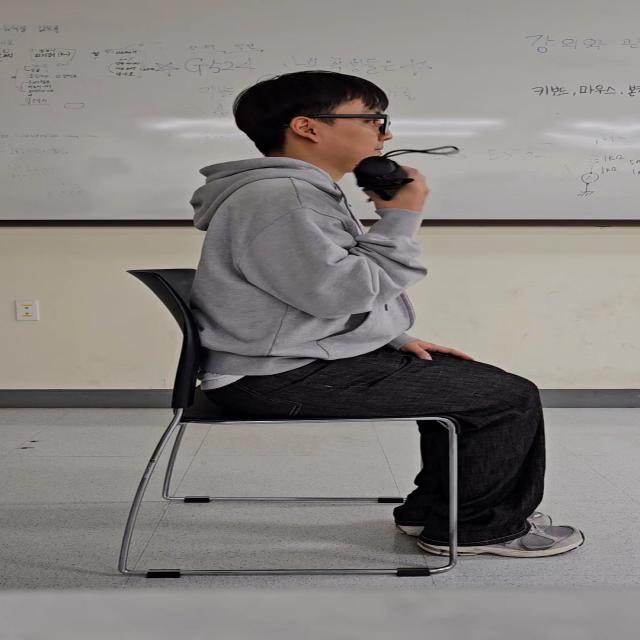curl: (228, 149, 456, 335)
